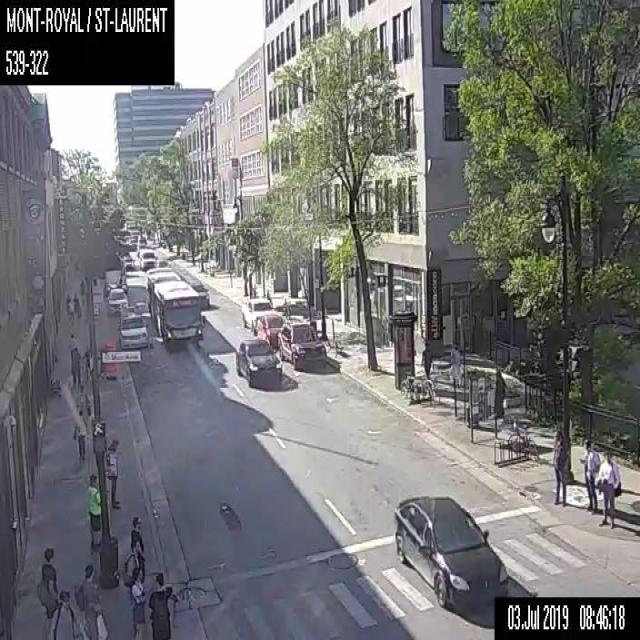bus: (145, 266, 205, 344)
construction: (101, 340, 115, 380)
pedestrian: (74, 563, 108, 639), (592, 448, 620, 530), (35, 545, 58, 639), (48, 588, 88, 639), (147, 572, 172, 639), (577, 438, 600, 510), (552, 428, 570, 507), (130, 514, 145, 590), (85, 472, 100, 548), (130, 568, 145, 638), (107, 438, 121, 511), (73, 409, 89, 461), (493, 370, 506, 418), (75, 384, 90, 425), (421, 341, 434, 380), (70, 346, 80, 386), (81, 350, 90, 384), (68, 332, 76, 361), (65, 292, 71, 316), (72, 292, 77, 316), (80, 278, 84, 296)
vehicle: (394, 494, 508, 611), (277, 318, 325, 369), (236, 338, 282, 386), (241, 297, 276, 334), (118, 309, 148, 350), (256, 314, 284, 346), (101, 269, 127, 297), (187, 279, 209, 308), (106, 288, 128, 314), (138, 247, 157, 268), (122, 254, 134, 268), (127, 237, 136, 249), (138, 236, 146, 246)
